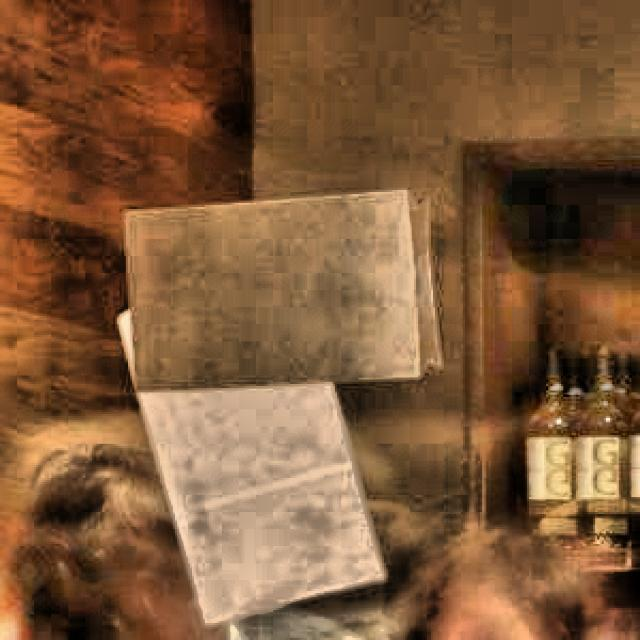Paper-bag: (101, 265, 396, 633), (102, 179, 456, 404)
